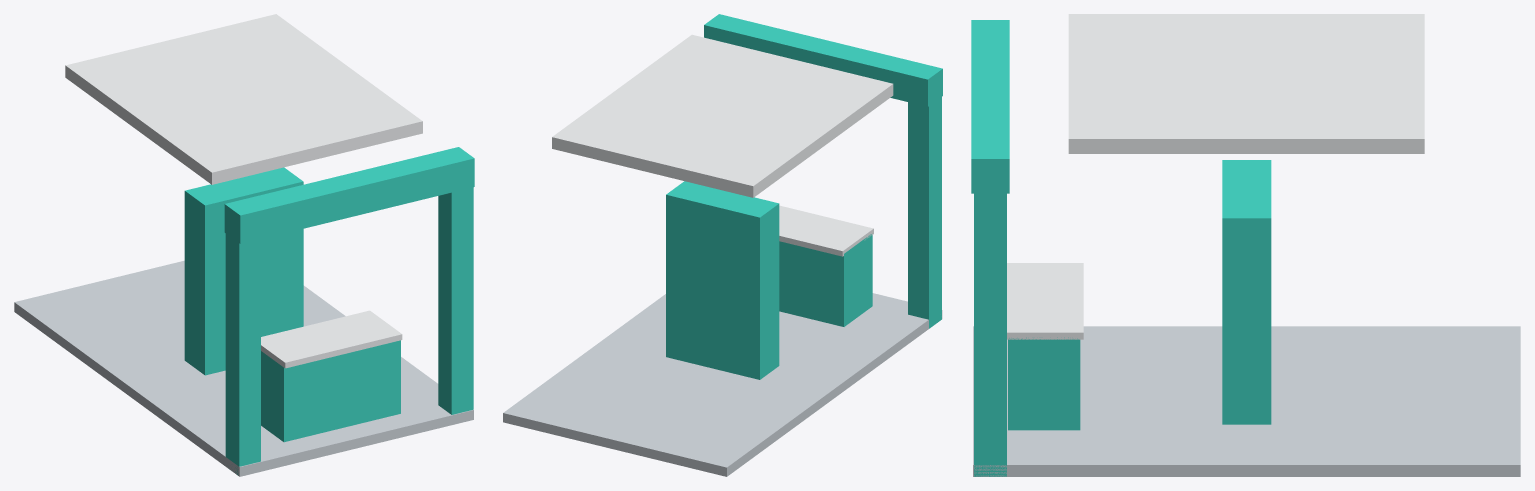
3 renders of one model, left to right at view 1: azimuth 30°, elevation 25°; view 2: azimuth 150°, elevation 25°; view 3: azimuth 270°, elevation 25°, orthographic. The views are drawn at different scales.
Visible parts, largest first — view 1: Exhibition Booth Concept; view 2: Exhibition Booth Concept; view 3: Exhibition Booth Concept.
Boxes of the visible parts, left/top/right/bottom form: Exhibition Booth Concept: left=14, top=14, right=474, bottom=476; Exhibition Booth Concept: left=503, top=14, right=942, bottom=476; Exhibition Booth Concept: left=971, top=14, right=1520, bottom=476.
Bounding box in the file's own units: 3 × 3.34 × 5.02.
